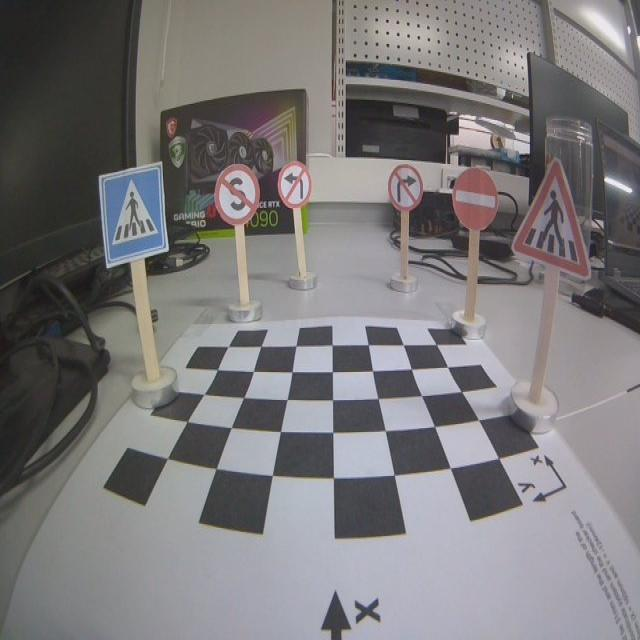Dilarang Belok Kanan: (389, 165, 422, 211)
Dilarang Belok Kiri: (276, 160, 311, 208)
Dilarang Masuk: (452, 168, 498, 227)
Rambu Berhenti: (212, 162, 259, 224)
Rambu Penyebrangan: (508, 158, 590, 278), (98, 161, 170, 268)
